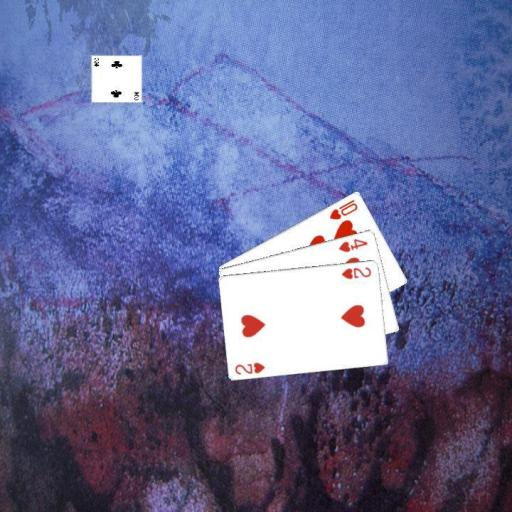10H: (327, 196, 359, 221)
2H: (232, 359, 267, 376), (339, 263, 373, 280)
4H: (336, 236, 369, 254)
